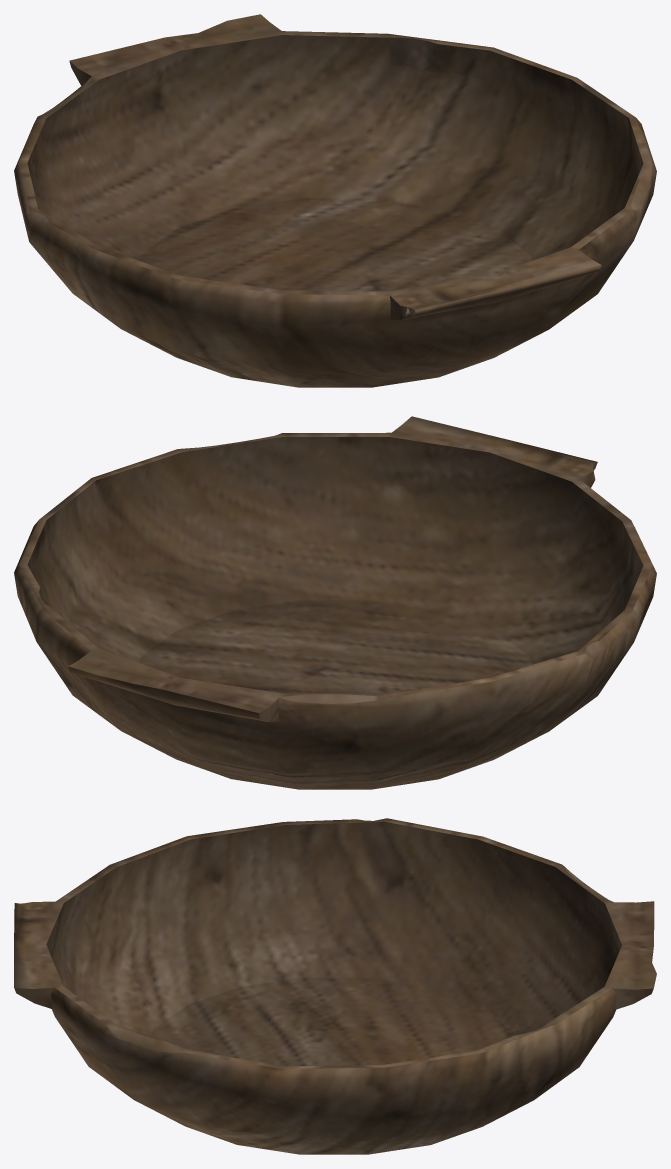
File: dough_bowl.FBX
3 renders of one model, top to bottom at view 1: azimuth 30°, elevation 25°; view 2: azimuth 150°, elevation 25°; view 3: azimuth 270°, elevation 25°, orthographic. The views are drawn at different scales.
Parts seen in each view (by area): view 1: dough_bowl; view 2: dough_bowl; view 3: dough_bowl.
Boxes of the visible parts, left/top/right/bottom form: dough_bowl: left=14, top=14, right=656, bottom=387; dough_bowl: left=14, top=416, right=656, bottom=789; dough_bowl: left=14, top=818, right=656, bottom=1154.
Bounding box in the file's own units: 52.79 × 16.3 × 56.22.
